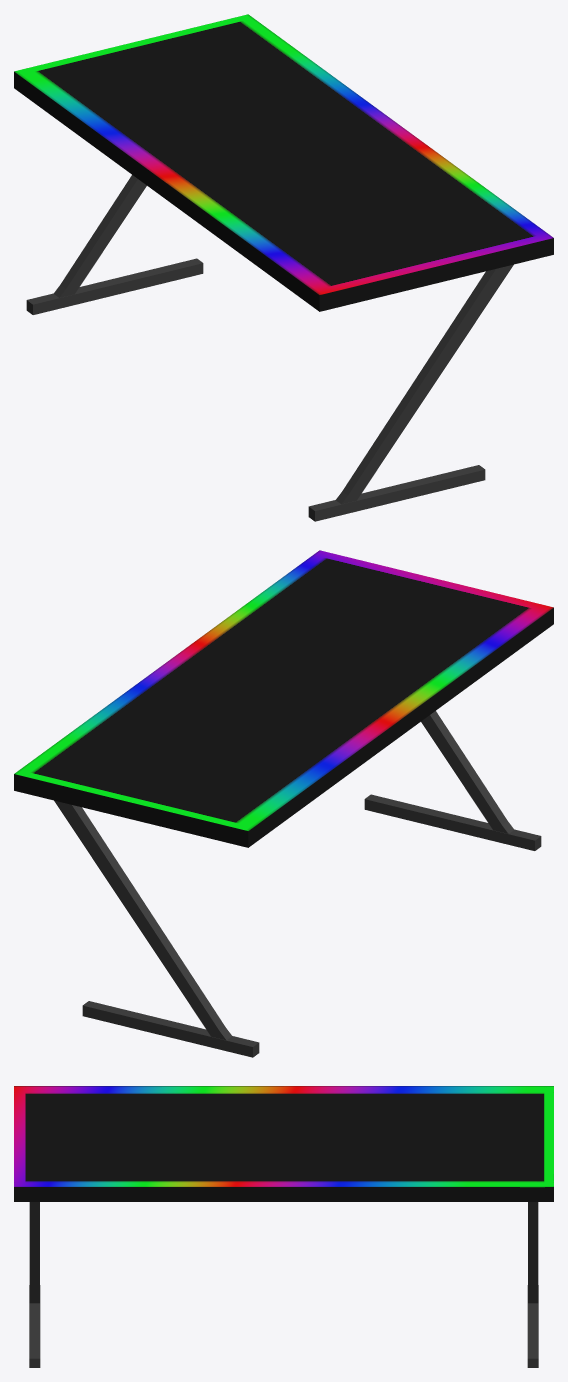
Rendered from tableRgb.fbx.
3 views of the same model, one above another, from view 1: azimuth 30°, elevation 25°; view 2: azimuth 150°, elevation 25°; view 3: azimuth 270°, elevation 25° (orthographic). The views are drawn at different scales.
Visible parts, largest first — view 1: Table; view 2: Table; view 3: Table.
Part boxes in pixels (bbox=[...]): Table: bbox=[14, 14, 553, 521]; Table: bbox=[14, 550, 553, 1057]; Table: bbox=[14, 1086, 553, 1367].
Bounding box in the file's own units: 4.18 × 9.44 × 3.98.
